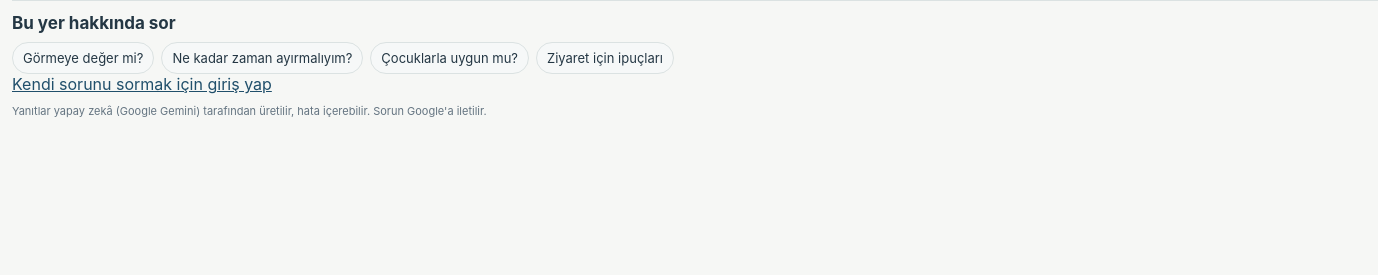
Test: yer soru bolumu › hazir soruyu dogru uca gonderir ve tekrari onbellekten yanitlar
The width and height of the screenshot is (1378, 275).
Click the button "Görmeye değer mi?": (83, 58) [12,42,154,74]
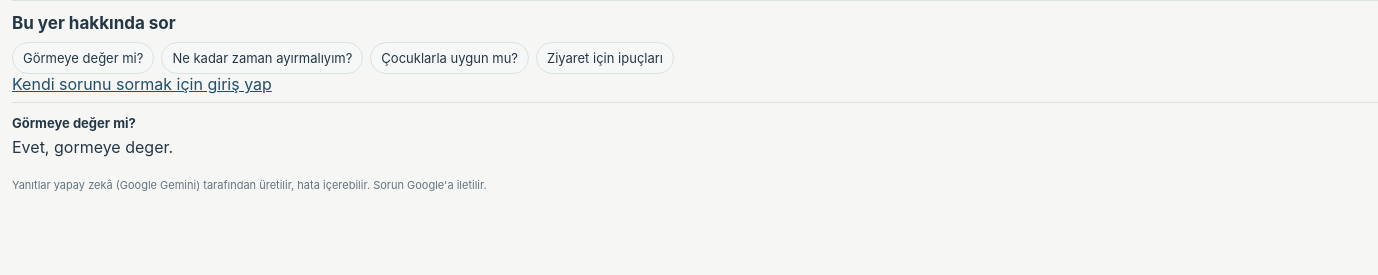
Now the text "Evet, gormeye deger." is shown, box [12,137,173,157]
Click the button "Görmeye değer mi?": (83, 58) [12,42,154,74]
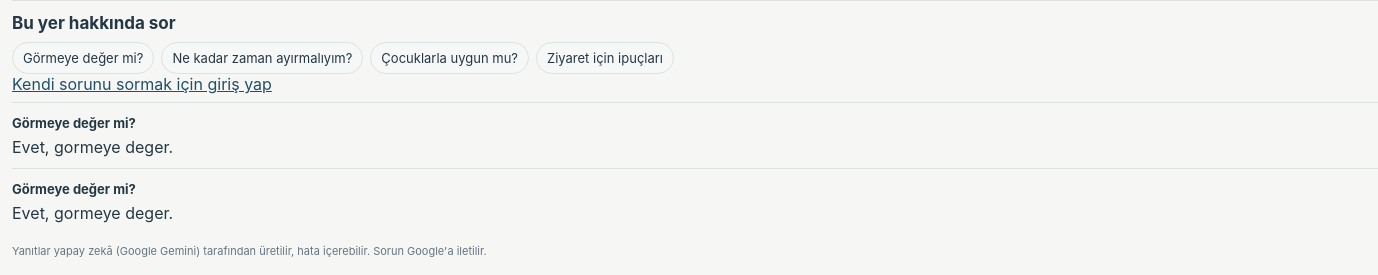
Now the text "Evet, gormeye deger." is shown 2 times, box [12,137,173,157]; [12,203,173,223]
